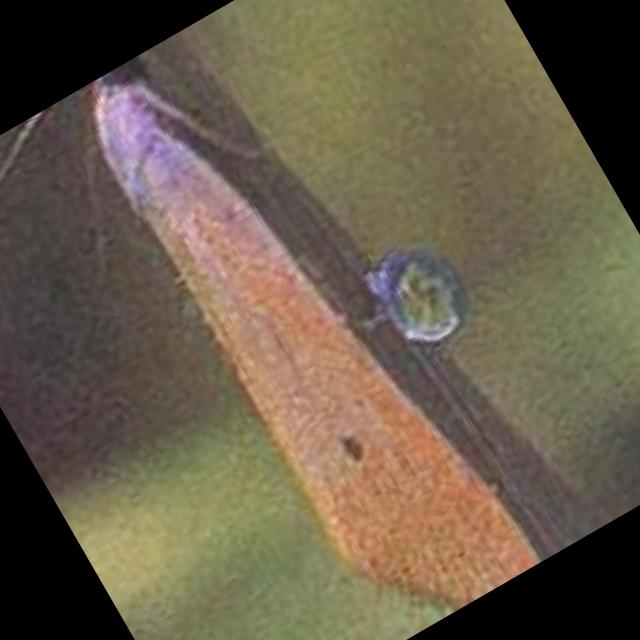stem-borer: (59, 11, 534, 640)
